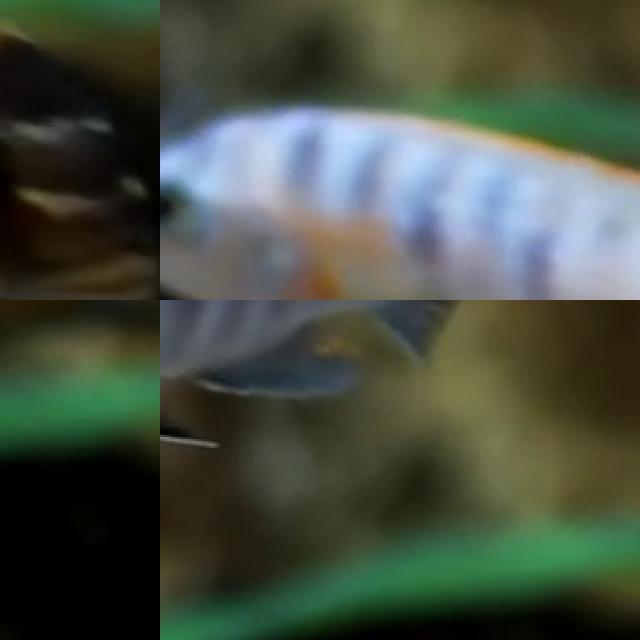fish: (160, 83, 640, 300), (0, 0, 160, 300)
